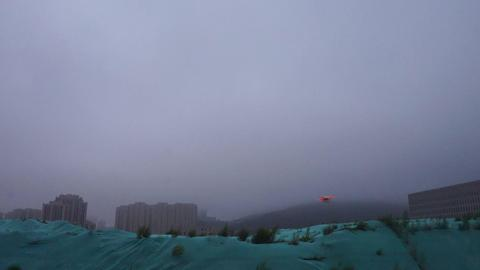UAV: (318, 196, 335, 204)
